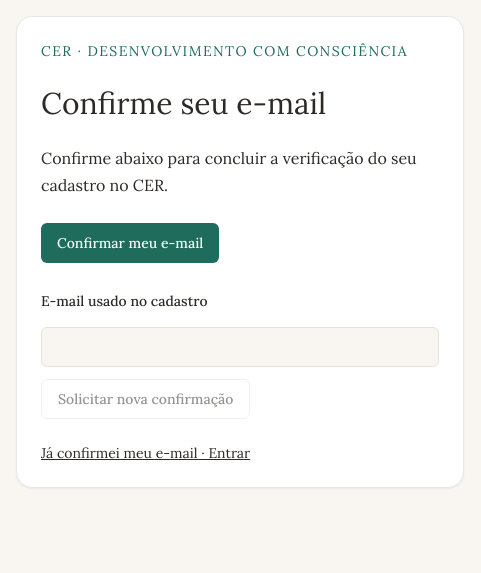
it: invalid token shows recovery and never claims confirmation
This screenshot has width=481, height=573.
Click the button "Confirmar meu e-mail" at (130, 243), box [41,223,219,263]
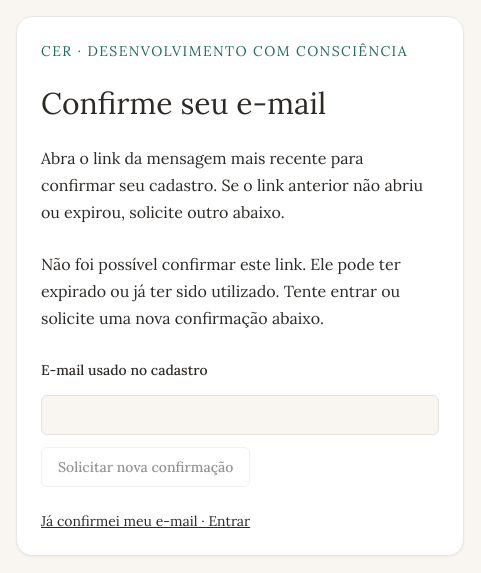
Now the message shows "Não foi possível confirmar", box [41,254,401,328]
Now the button "Confirmar meu e-mail" is gone
